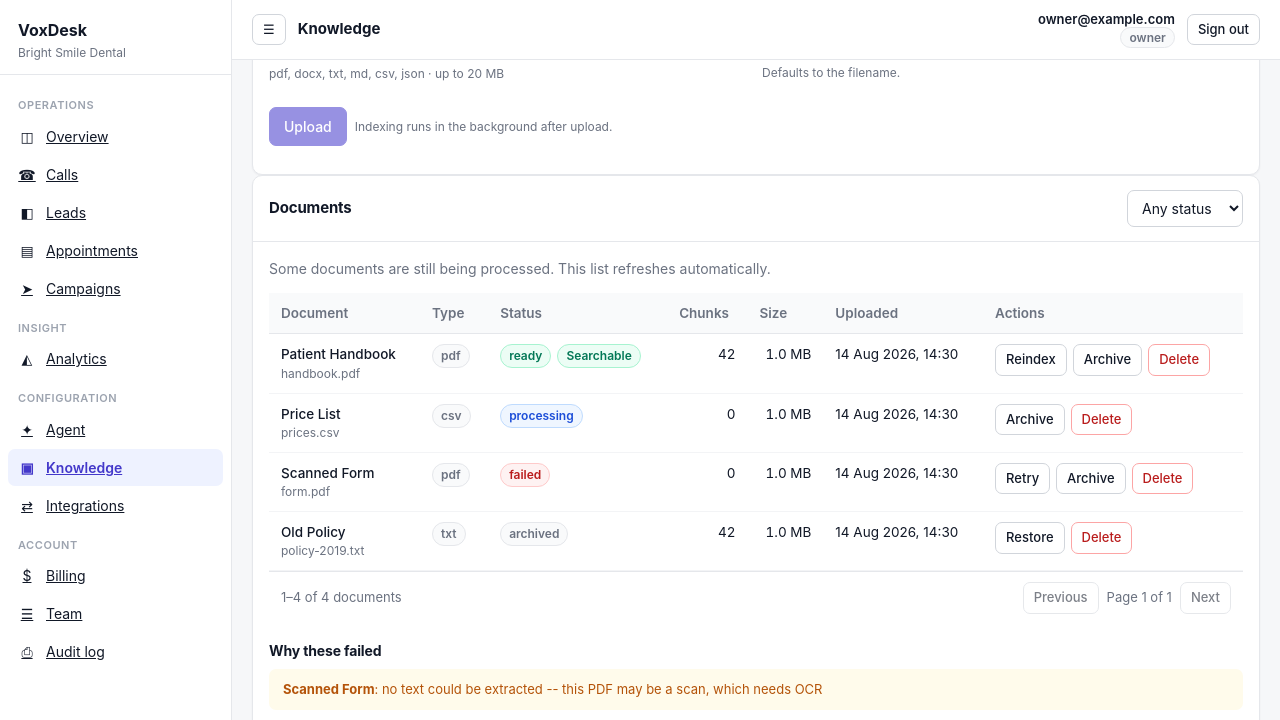
Test: archive and delete confirmation › asks before archiving and sends no request until confirmed
The width and height of the screenshot is (1280, 720).
(page scrolled)
What coordinates should you click on to do the following:
click the button "Archive" in the row of "Patient Handbook"
I would click on:
 (1107, 360)
Its box is [1073, 344, 1142, 376].
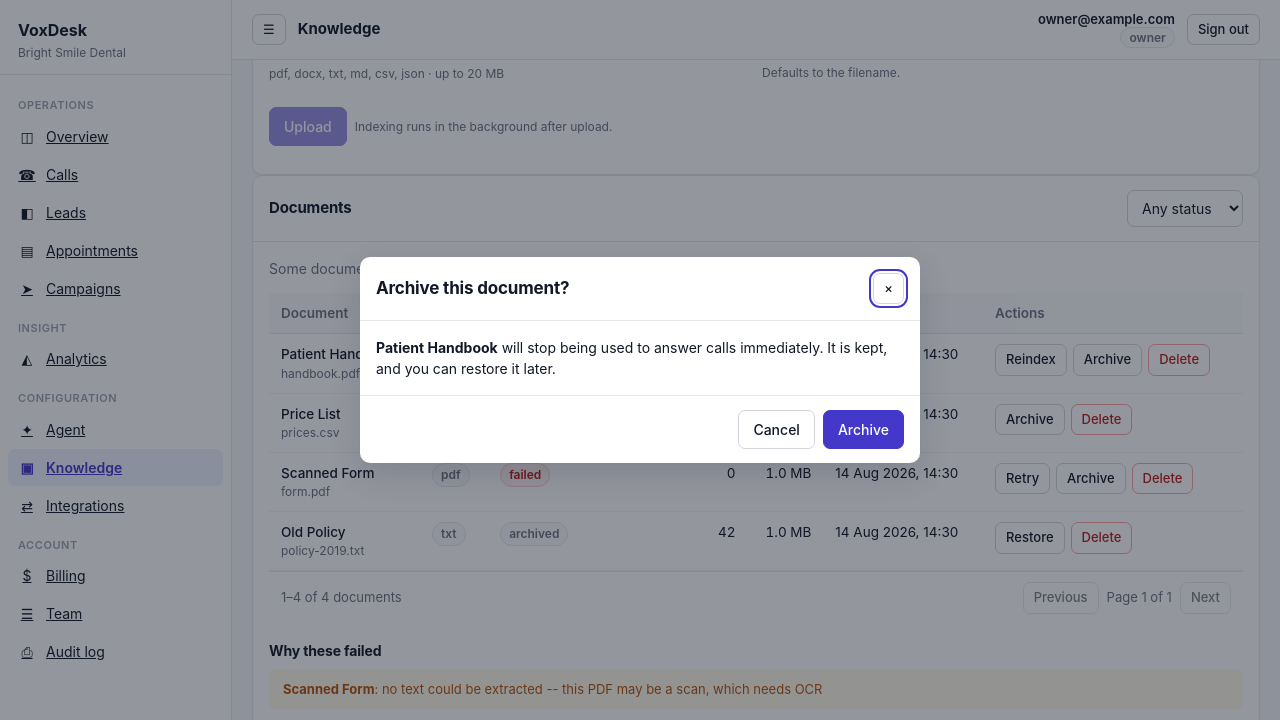
Expected: the dialog shows "Archive this document", [376, 278, 569, 298]
What coordinates should you click on to do the following:
click the button "Archive"
I would click on:
 (863, 430)
Its box is [823, 410, 904, 449].
(page scrolled)
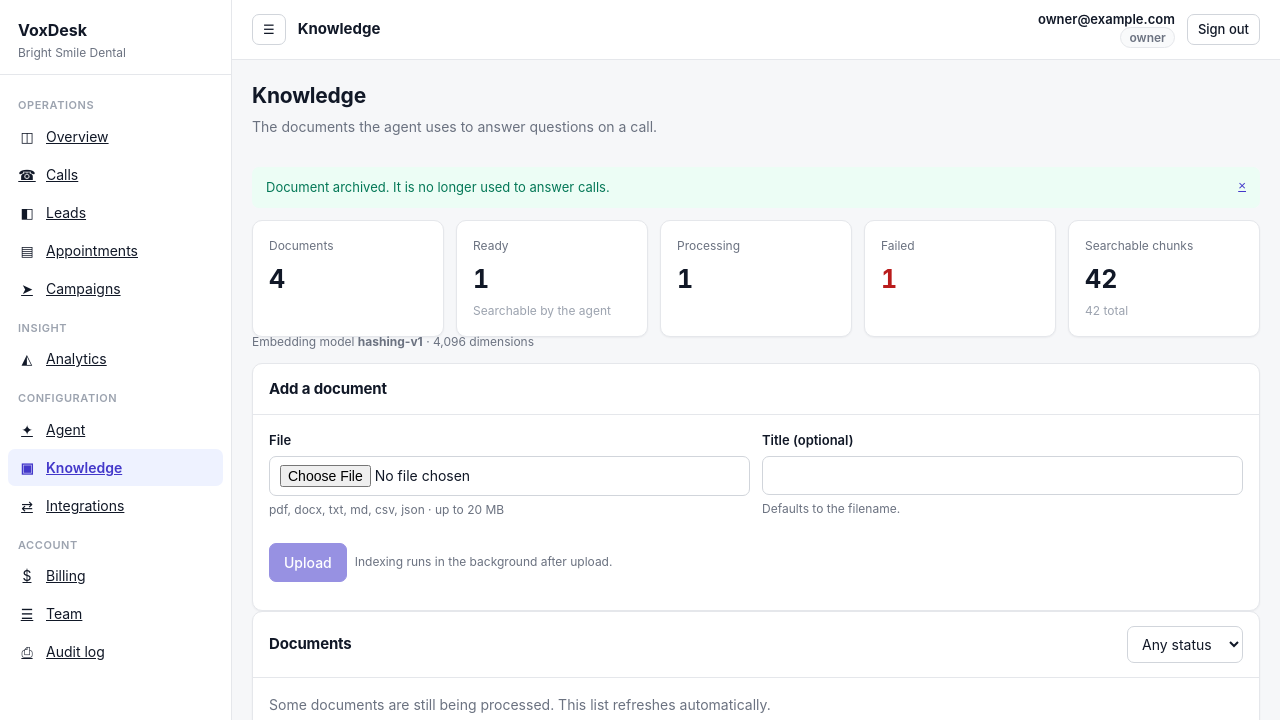
Expected: the text "Document archived. It is no longer used to answer calls." is shown, [266, 178, 610, 194]
